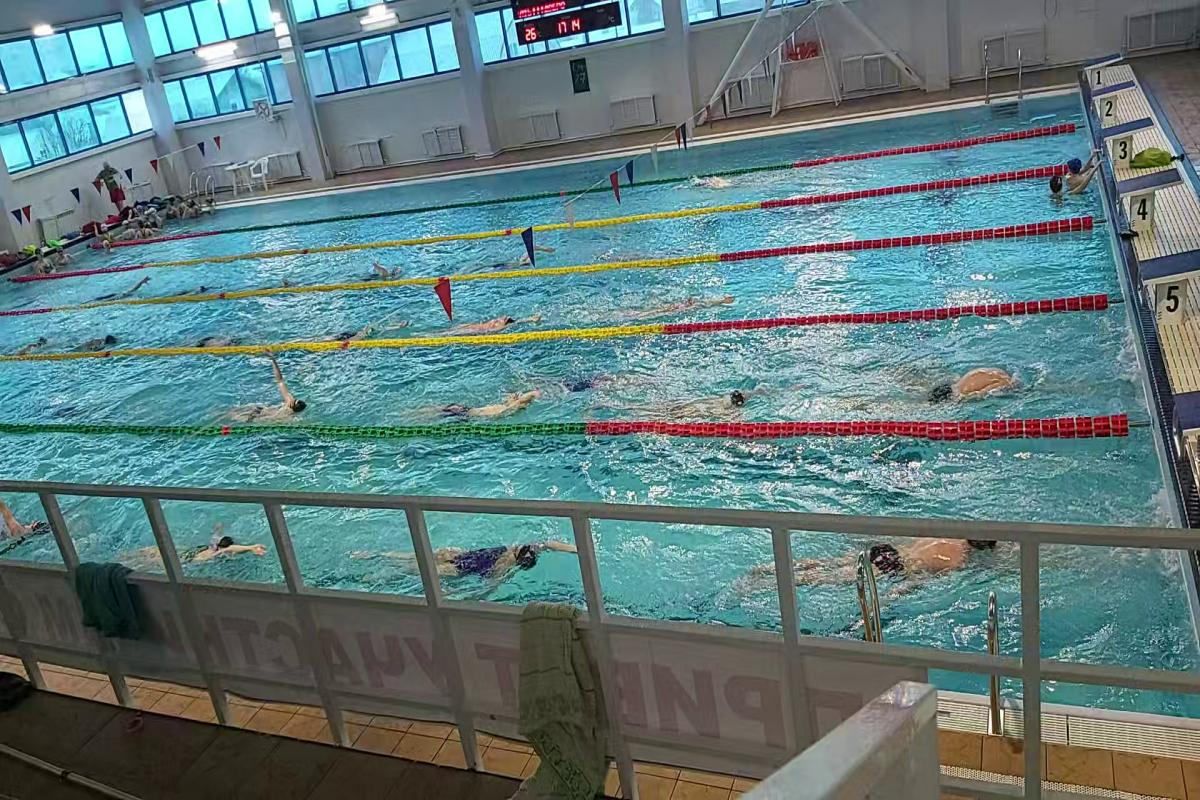swimmer: (740, 536, 1008, 605), (352, 536, 566, 588), (929, 346, 1037, 412), (129, 524, 270, 574), (233, 362, 308, 425), (664, 378, 778, 417), (409, 387, 544, 419), (327, 312, 407, 339), (463, 304, 546, 330), (76, 328, 123, 348), (362, 258, 405, 278)
